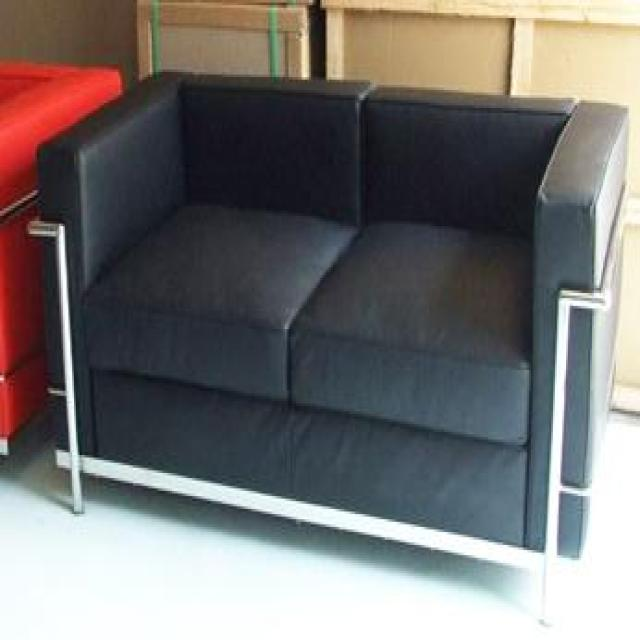sofa: (33, 64, 630, 630)
